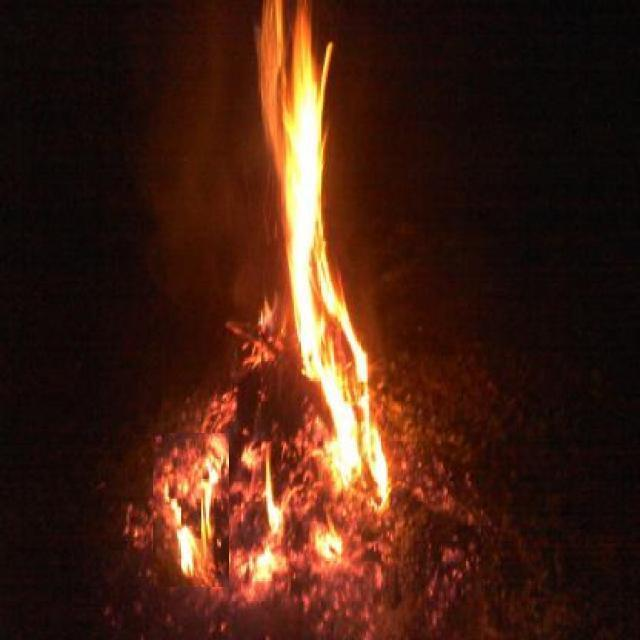Fire: (257, 0, 389, 504), (168, 502, 196, 578), (262, 454, 284, 530), (247, 548, 274, 581)
